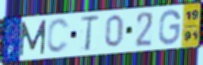0: (103, 14, 126, 50)
2: (134, 11, 155, 48)
C: (46, 17, 71, 55)
G: (157, 9, 182, 46)
M: (18, 19, 48, 58)
T: (79, 14, 101, 53)
